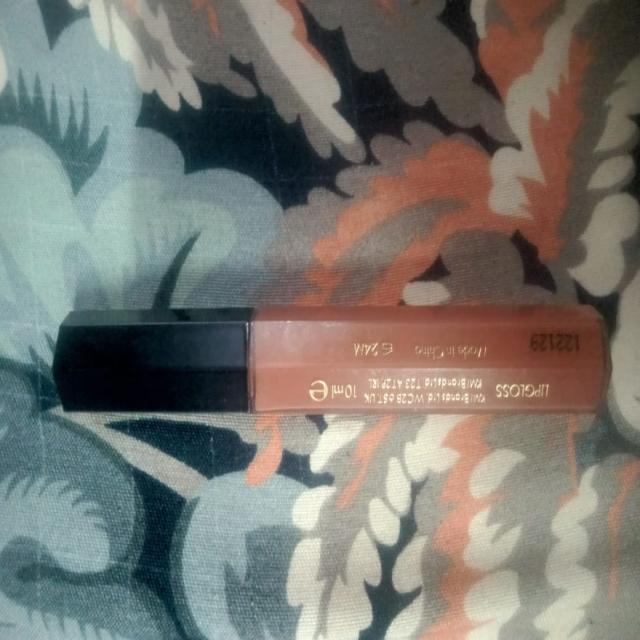lip gloss: (43, 296, 624, 435)
